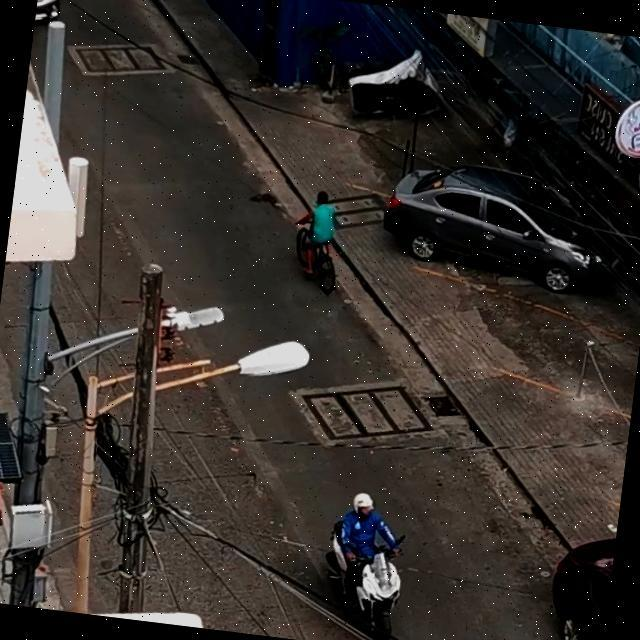Bike: (248, 161, 388, 332)
